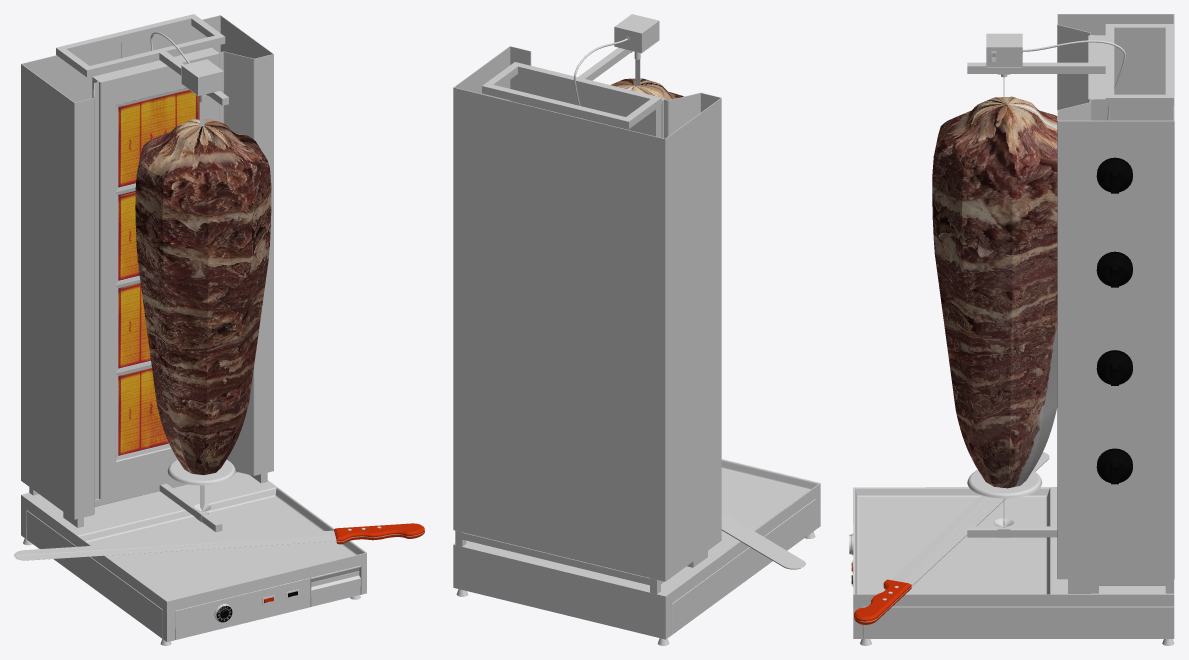
The picture shows the model from 3 angles, left to right: view 1: azimuth 30°, elevation 25°; view 2: azimuth 150°, elevation 25°; view 3: azimuth 270°, elevation 25°; orthographic projection. The views are drawn at different scales.
Parts seen in each view (by area): view 1: Box216, Object704, Object703, Box219, Circle002, Object702; view 2: Box216, Box219, Circle002, Object704; view 3: Box216, Object704, Box219, Cone002, Circle002.
Boxes of the visible parts, x1,y1,x2,y2 form: Box216: (21,15,366,641); Object704: (135,119,271,474); Object703: (118,90,198,455); Box219: (29,14,267,532); Circle002: (14,523,424,560); Object702: (310,566,360,606); Box216: (453,46,820,639); Box219: (455,14,707,594); Circle002: (721,512,805,569); Object704: (611,78,683,100); Box216: (851,14,1174,638); Object704: (932,96,1057,488); Box219: (967,24,1173,593); Cone002: (1096,157,1132,484); Circle002: (854,452,1049,624).
Size of the model in its own units: 994 by 1459 by 772.
Materials: 7 (3 with a texture image).
